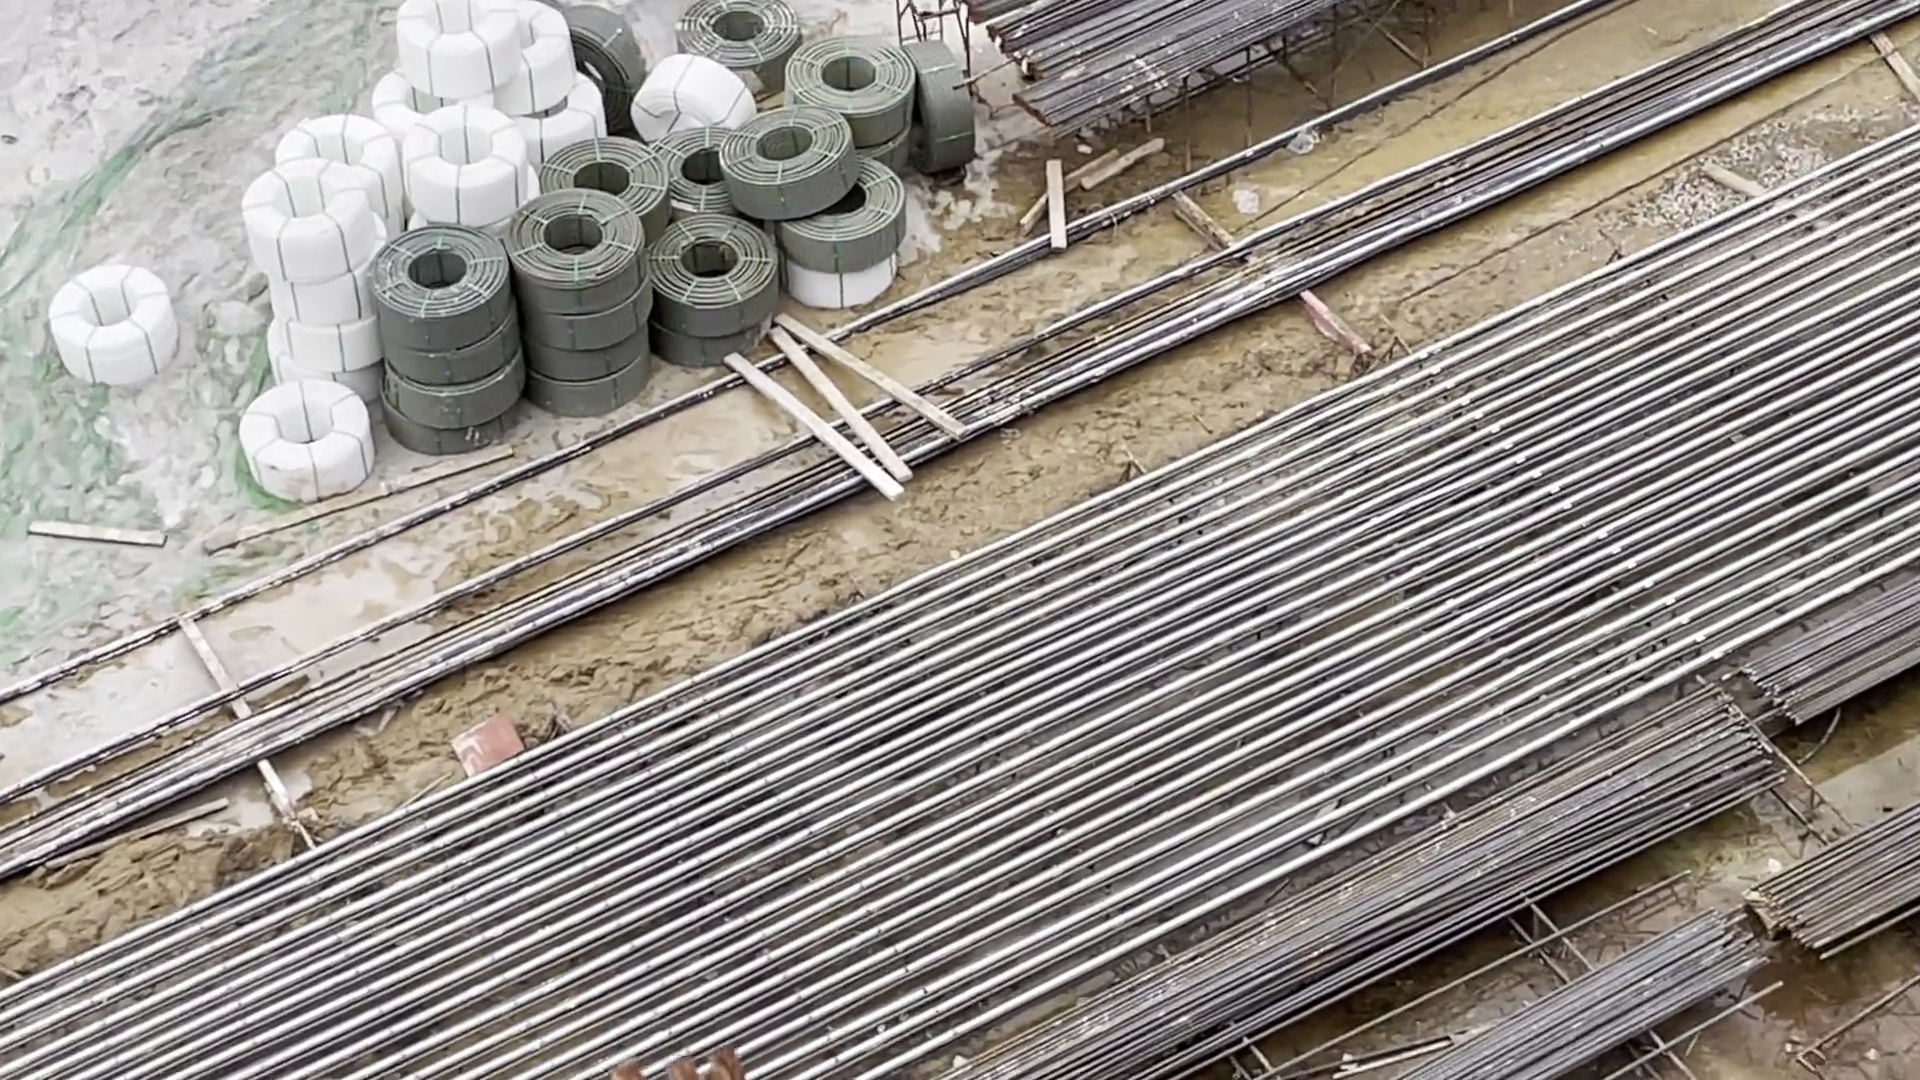rebar: (1217, 659, 1920, 1071), (1010, 8, 1337, 92)
